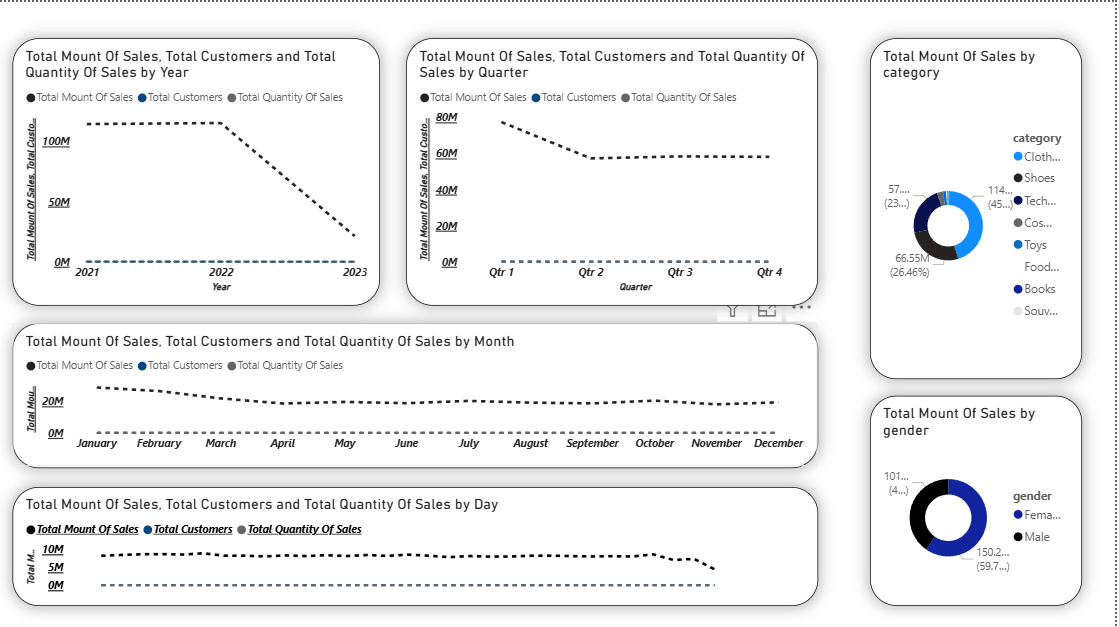

Layout of this report page (visuals, bound fields, positions):
{"tool":"powerbi","page":{"name":"Dashboard","canvas":[1280,720],"ordinal":1},"visuals":[{"type":"lineChart","fields":{"Category":["customer_shopping_data.invoice_date.Variation.Date Hierarchy.Year"],"Y":["customer_shopping_data.Total Mount Of Sales","customer_shopping_data.Total Customers","customer_shopping_data.Total Quantity Of Sales"]},"box":[19.3,41,419.8,305.2],"z":0},{"type":"lineChart","fields":{"Category":["customer_shopping_data.invoice_date.Variation.Date Hierarchy.Month"],"Y":["customer_shopping_data.Total Mount Of Sales","customer_shopping_data.Total Customers","customer_shopping_data.Total Quantity Of Sales"]},"box":[19.3,366.8,920.5,165.3],"z":1000},{"type":"lineChart","fields":{"Category":["customer_shopping_data.invoice_date.Variation.Date Hierarchy.Quarter"],"Y":["customer_shopping_data.Total Mount Of Sales","customer_shopping_data.Total Customers","customer_shopping_data.Total Quantity Of Sales"]},"box":[469.3,41,470.5,305.2],"z":2000},{"type":"donutChart","fields":{"Category":["customer_shopping_data.category"],"Y":["customer_shopping_data.Total Mount Of Sales"]},"box":[1000.1,41,242.5,389.7],"z":3000},{"type":"donutChart","fields":{"Category":["customer_shopping_data.gender"],"Y":["customer_shopping_data.Total Mount Of Sales"]},"box":[1000.1,450,242.5,240.1],"z":4000},{"type":"lineChart","fields":{"Category":["customer_shopping_data.invoice_date.Variation.Date Hierarchy.Day"],"Y":["customer_shopping_data.Total Mount Of Sales","customer_shopping_data.Total Customers","customer_shopping_data.Total Quantity Of Sales"]},"box":[19.3,553.8,920.5,136.3],"z":5000}]}

Visuals, with their boxes in screenshot pixels (x1, y1, x2, y2), scaled from the page's 1280x720 canvas onto the 1119x627 screenshot:
lineChart - customer_shopping_data.invoice_date.Variation.Date Hierarchy.Year x customer_shopping_data.Total Mount Of Sales: box(17, 36, 384, 301)
lineChart - customer_shopping_data.invoice_date.Variation.Date Hierarchy.Month x customer_shopping_data.Total Mount Of Sales: box(17, 319, 822, 463)
lineChart - customer_shopping_data.invoice_date.Variation.Date Hierarchy.Quarter x customer_shopping_data.Total Mount Of Sales: box(410, 36, 822, 301)
donutChart - customer_shopping_data.category x customer_shopping_data.Total Mount Of Sales: box(874, 36, 1086, 375)
donutChart - customer_shopping_data.gender x customer_shopping_data.Total Mount Of Sales: box(874, 392, 1086, 601)
lineChart - customer_shopping_data.invoice_date.Variation.Date Hierarchy.Day x customer_shopping_data.Total Mount Of Sales: box(17, 482, 822, 601)
